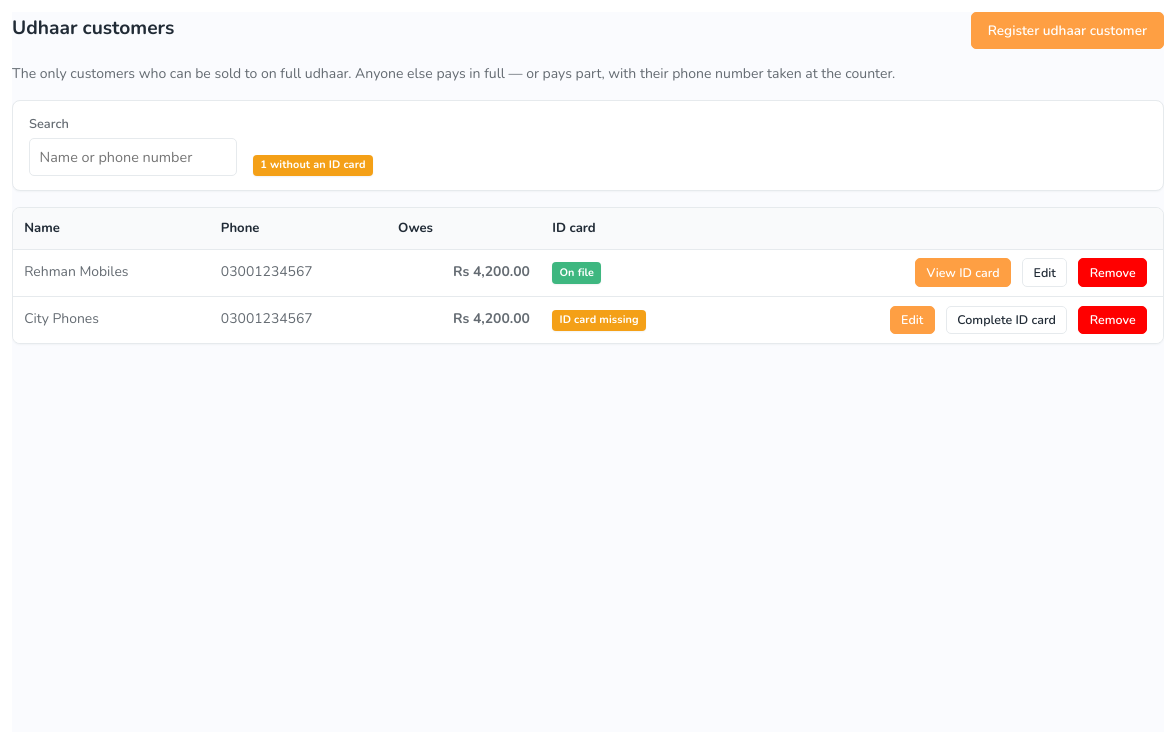
it: editing a registered udhaar customer › will not save without a name or a phone number
Click the button with aria-label "Edit Rehman Mobiles": (1045, 273) x1=1022 y1=258 x2=1067 y2=287
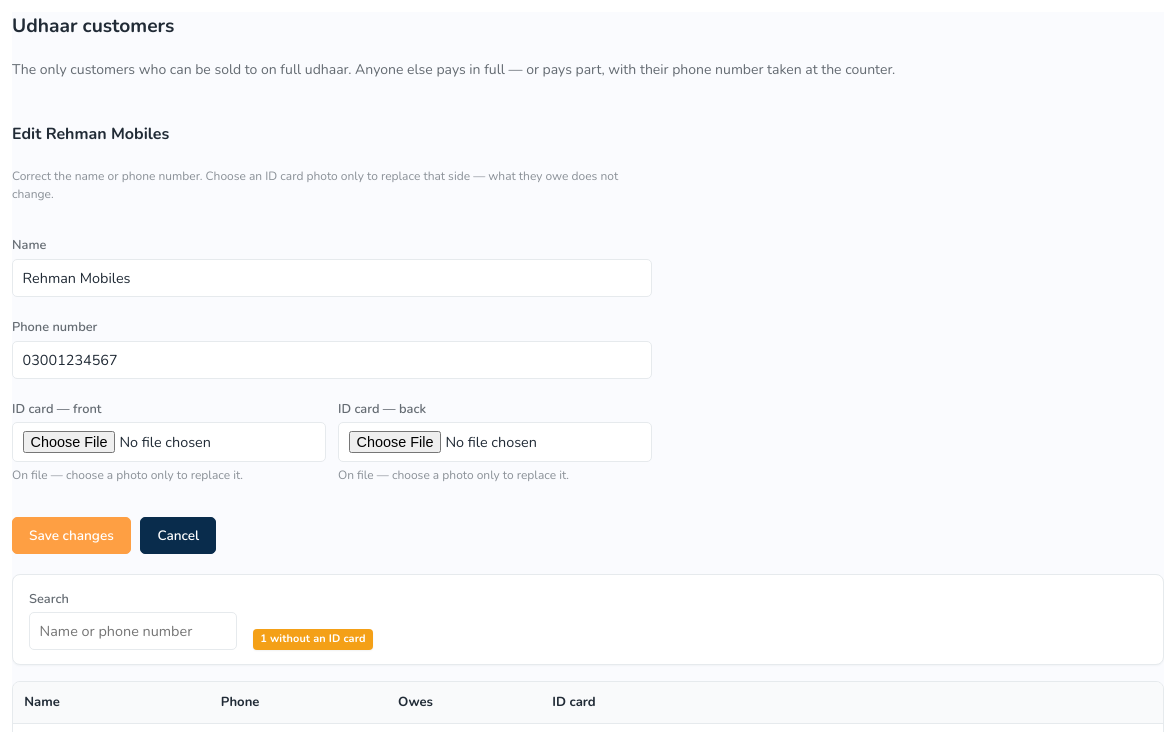
Clear the field labelled "Name": (332, 278) x1=12 y1=258 x2=652 y2=296
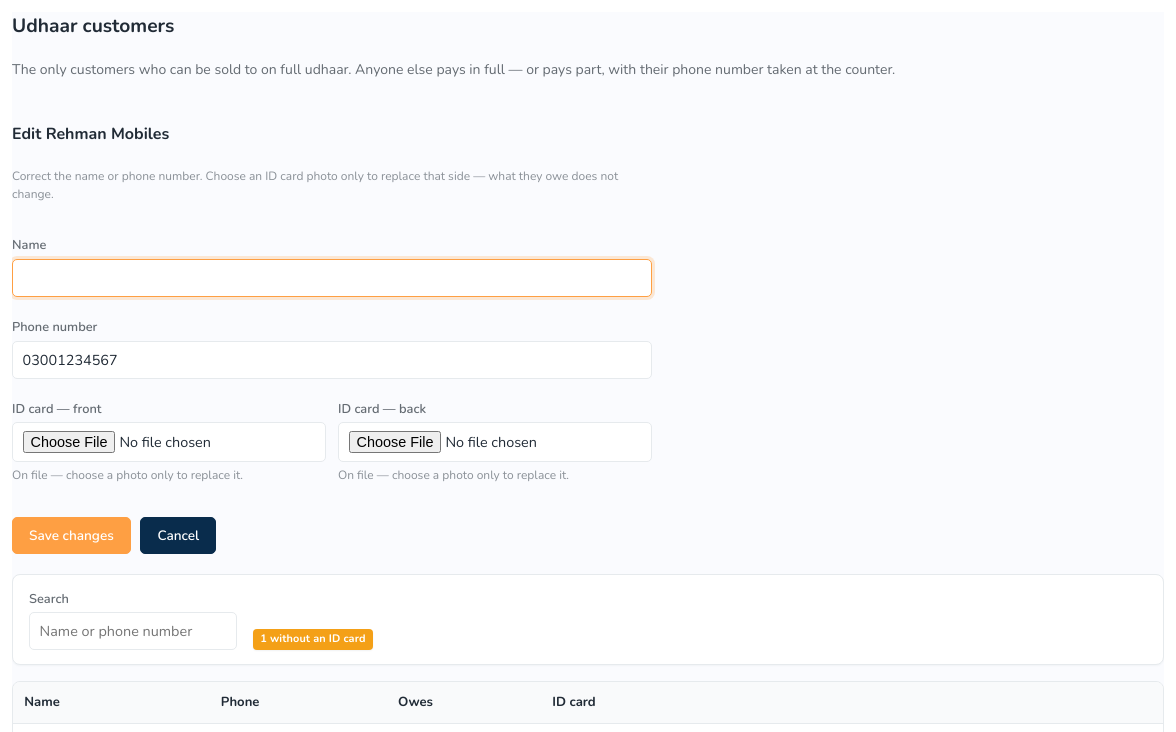
Click the button "Save changes": (71, 536) x1=12 y1=517 x2=131 y2=554
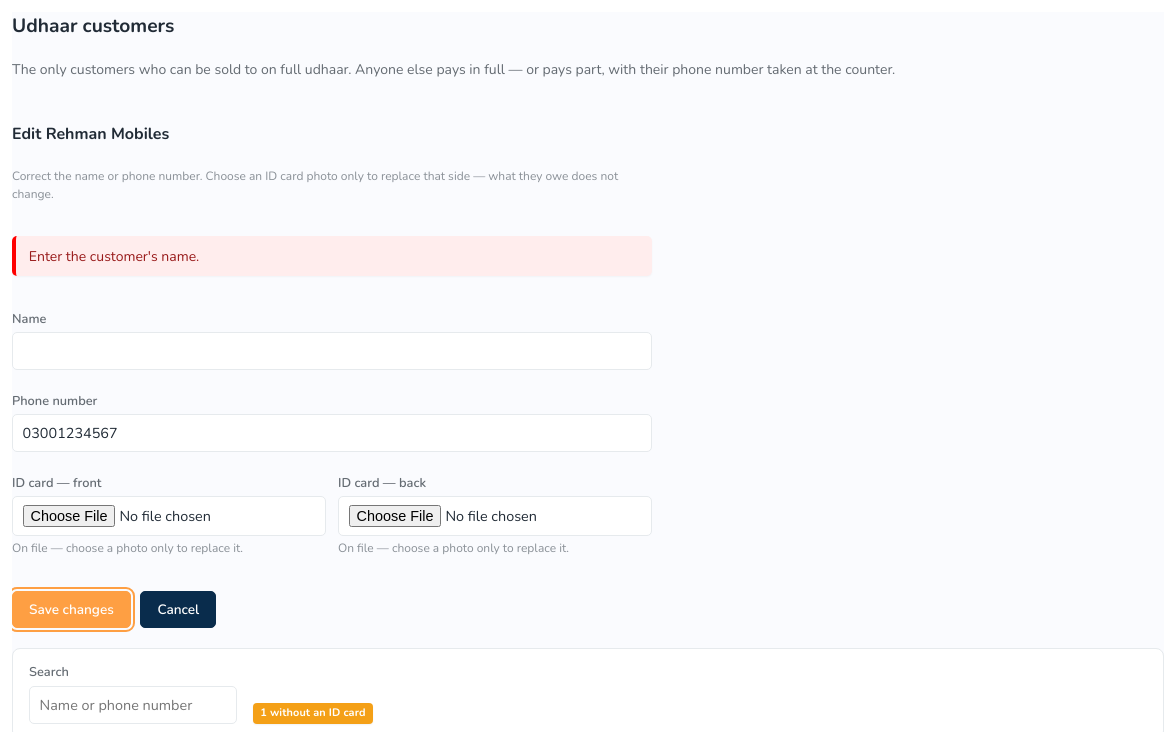
Now the text "Enter the customer's name." is shown, box x1=12 y1=236 x2=652 y2=276
